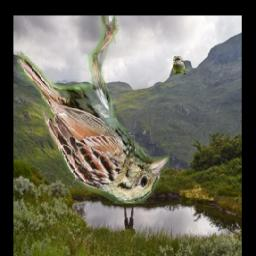Sparrow: (16, 16, 169, 205), (173, 57, 187, 75)
